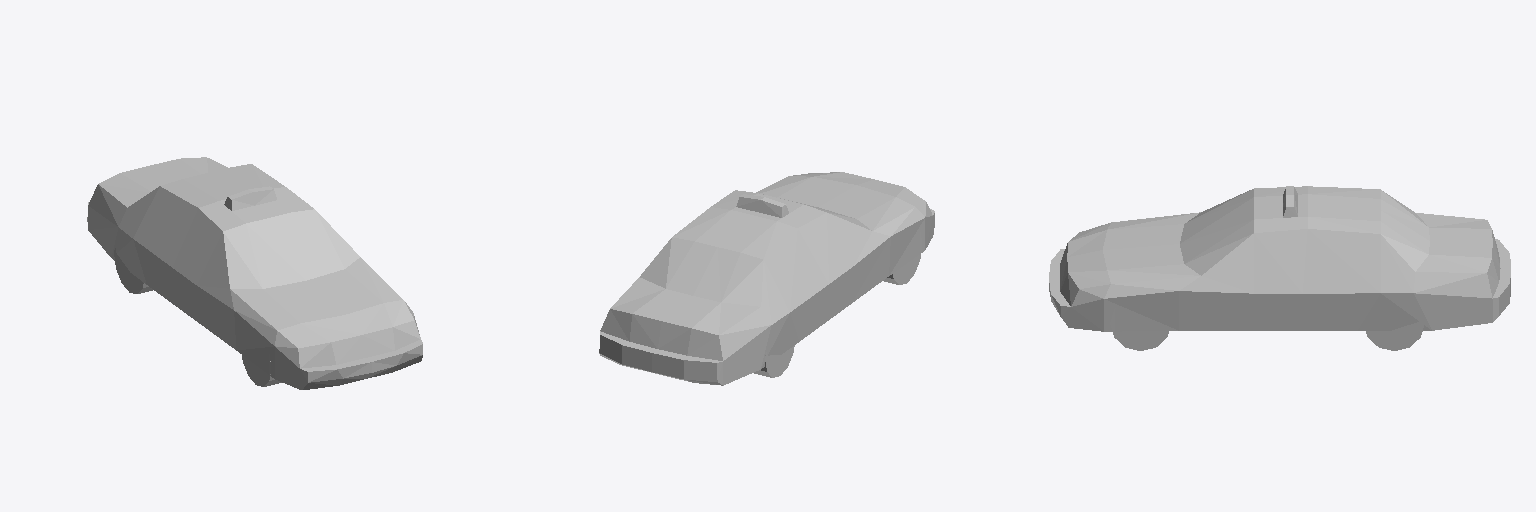
The model's file is Taxi.obj.
3 renders of one model, left to right at view 1: azimuth 30°, elevation 25°; view 2: azimuth 150°, elevation 25°; view 3: azimuth 270°, elevation 25°, orthographic.
Visible parts, largest first — view 1: Car_Body_Cube, Taxi_Sign_Cube.003, Wheel_RR_Cylinder; view 2: Car_Body_Cube, Taxi_Sign_Cube.003, Wheel_RR_Cylinder; view 3: Car_Body_Cube, Wheel_RL_Cylinder.003, Wheel_FL_Cylinder.001.
Part boxes in pixels (x1,y1,x2,y2): Car_Body_Cube: (87,157,422,389); Taxi_Sign_Cube.003: (224,186,276,210); Wheel_RR_Cylinder: (114,248,152,293); Car_Body_Cube: (599,172,934,385); Taxi_Sign_Cube.003: (736,194,788,217); Wheel_RR_Cylinder: (754,345,794,377); Car_Body_Cube: (1049,186,1510,331); Wheel_RL_Cylinder.003: (1366,316,1424,350); Wheel_FL_Cylinder.001: (1110,308,1168,350).
Size of the model in its own units: 0.9784 by 0.7925 by 2.7.